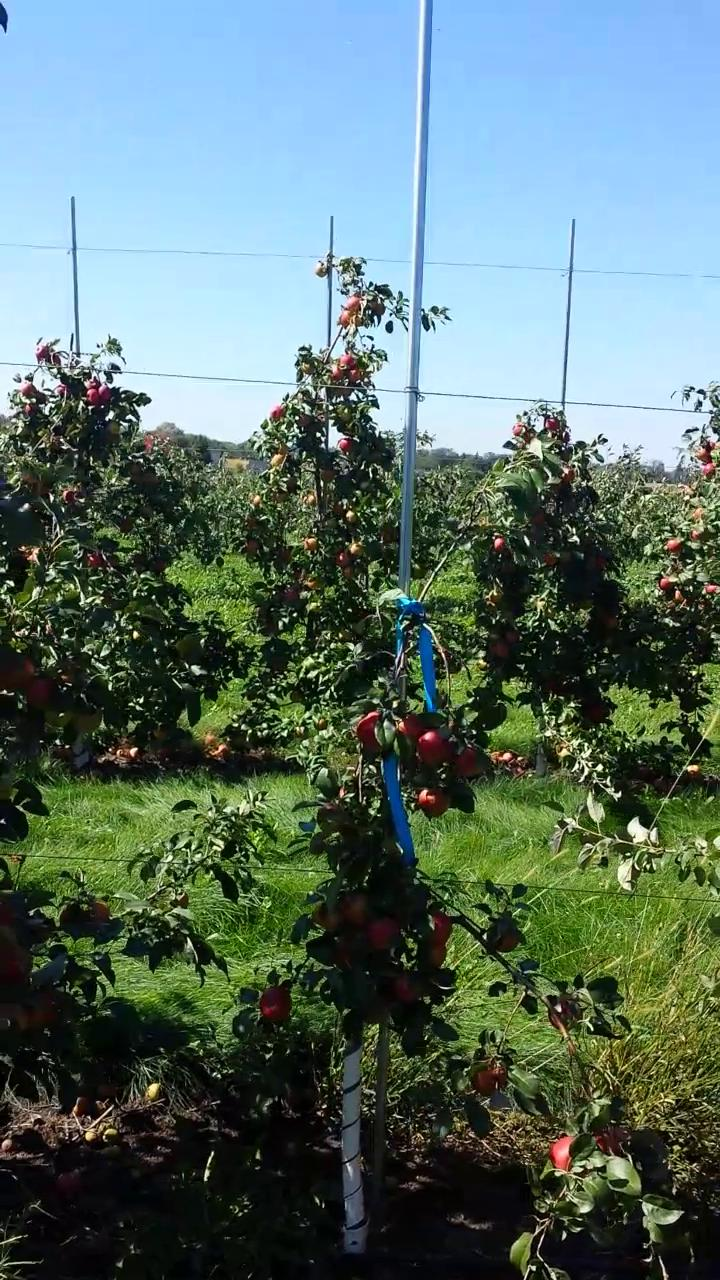Apple: (412, 732, 454, 769), (547, 1136, 588, 1173), (362, 914, 403, 950), (337, 889, 375, 926), (352, 711, 384, 752), (0, 654, 34, 692), (594, 1125, 633, 1157), (445, 748, 486, 778), (469, 1064, 506, 1097), (548, 997, 581, 1032), (27, 991, 58, 1028), (259, 987, 292, 1020), (414, 788, 451, 817), (26, 673, 55, 709), (3, 941, 29, 981), (396, 713, 428, 739), (429, 909, 453, 943), (314, 904, 341, 933), (1, 1003, 28, 1029), (491, 932, 521, 954), (74, 710, 102, 733), (393, 976, 418, 1000), (44, 708, 74, 726), (60, 903, 83, 926), (87, 898, 109, 921), (0, 905, 20, 928), (431, 942, 446, 966)
